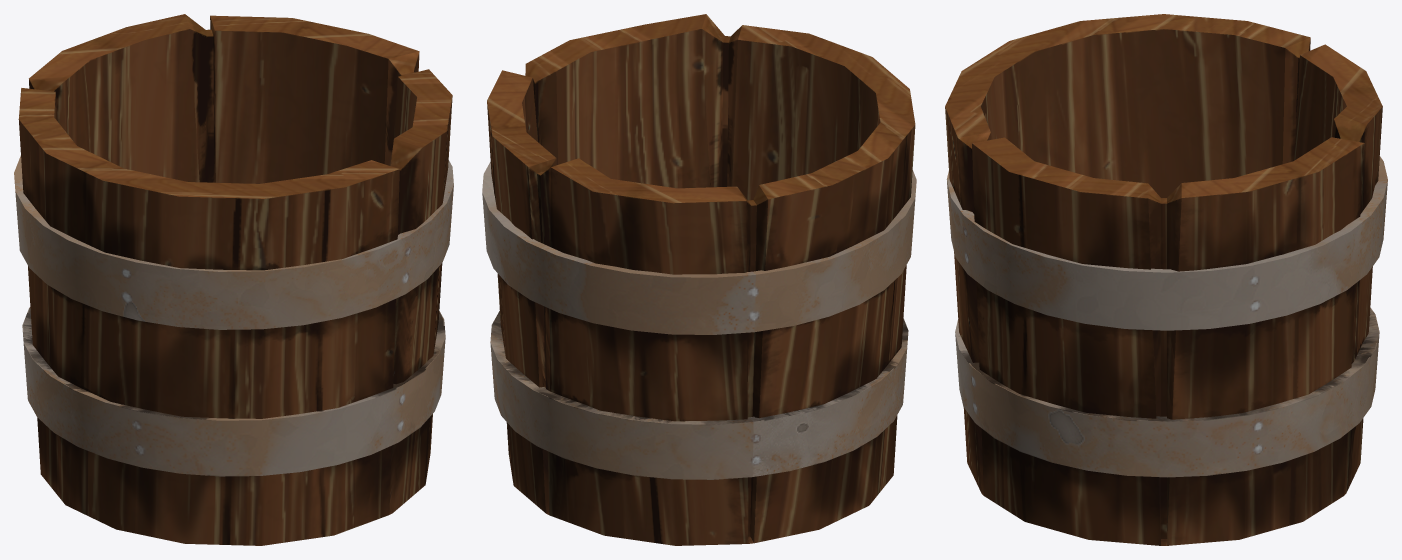
Rendered from bucket.fbx.
3 views of the same model, side by side, from view 1: azimuth 30°, elevation 25°; view 2: azimuth 150°, elevation 25°; view 3: azimuth 270°, elevation 25° (orthographic).
Visible parts, largest first — view 1: Bucket; view 2: Bucket; view 3: Bucket.
Part boxes in pixels (x1,y1,x2,y2): Bucket: (14, 14, 453, 545); Bucket: (482, 14, 916, 545); Bucket: (945, 14, 1387, 545).
Size of the model in its own units: 65.32 by 59.21 by 65.28.
